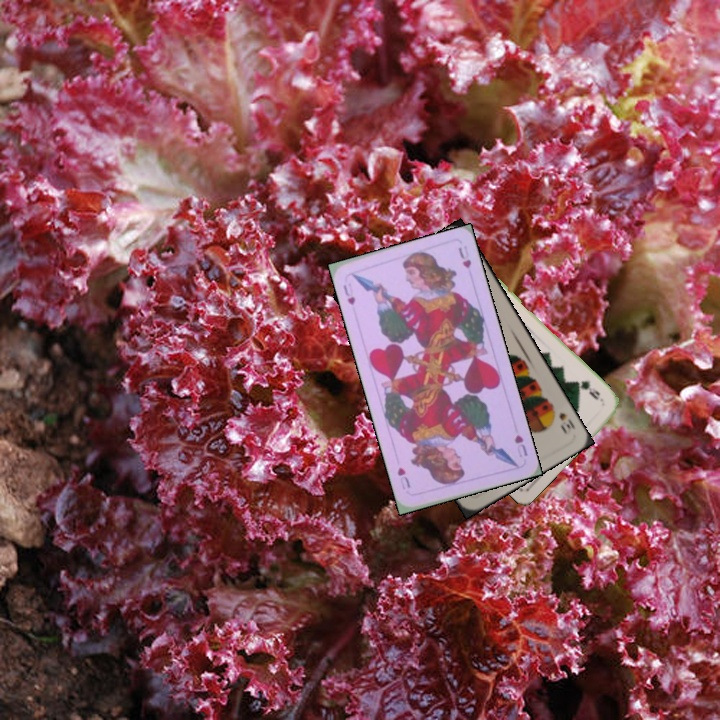G9: (572, 376, 606, 404)
HU: (510, 430, 530, 460), (339, 280, 358, 308)
S10: (547, 401, 578, 437)
